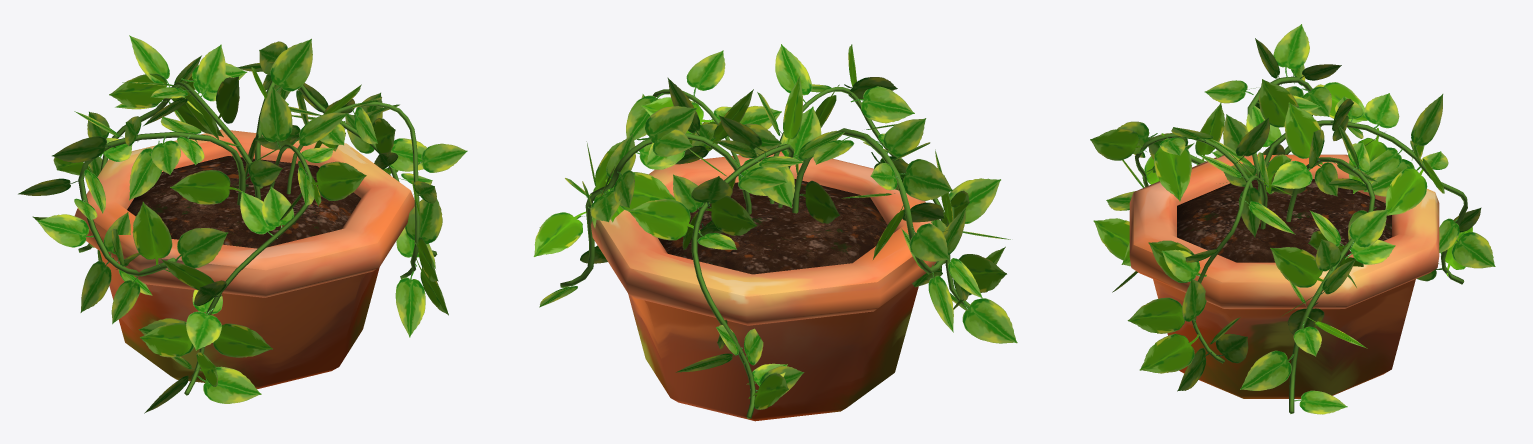
Rendered from Pothos 4.fbx.
3 views of the same model, side by side, from view 1: azimuth 30°, elevation 25°; view 2: azimuth 150°, elevation 25°; view 3: azimuth 270°, elevation 25° (orthographic). The views are drawn at different scales.
Visible parts, largest first — view 1: Pothos 4; view 2: Pothos 4; view 3: Pothos 4.
Boxes of the visible parts, x1=… form: Pothos 4: x1=18, y1=35, x2=467, y2=413; Pothos 4: x1=533, y1=44, x2=1017, y2=421; Pothos 4: x1=1090, y1=24, x2=1495, y2=414.
Bounding box in the file's own units: 1.04 × 0.7086 × 0.9788.
